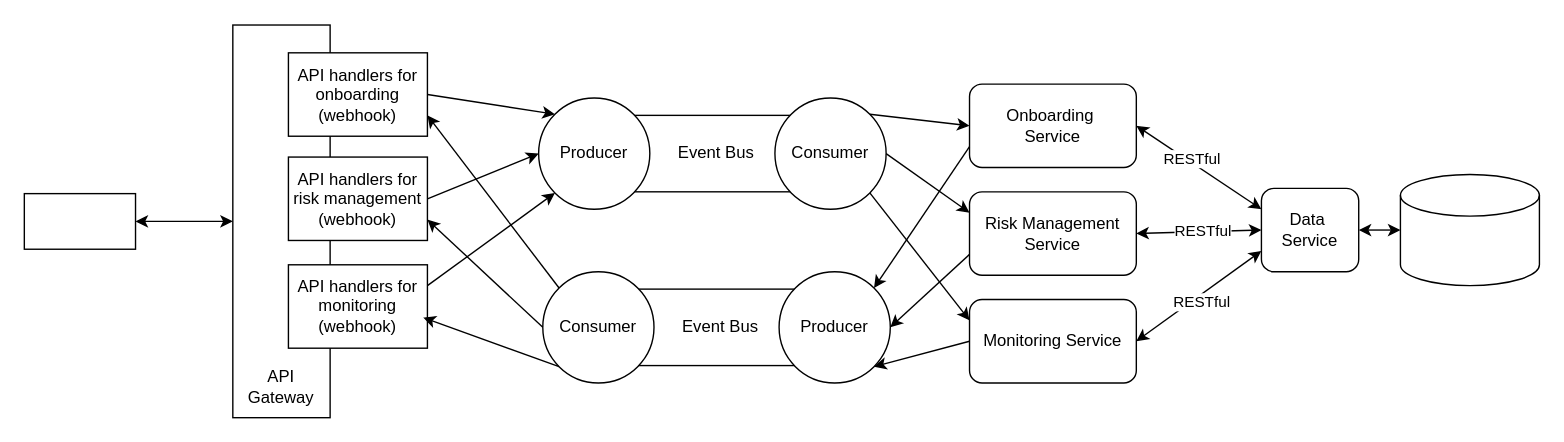
Some shapes in this 1564 by 442 pixel diagram are drawn without their labels. Each missing label, with the centre of its shape:
Client (Backend): point 79,220
Database: point 1469,229
